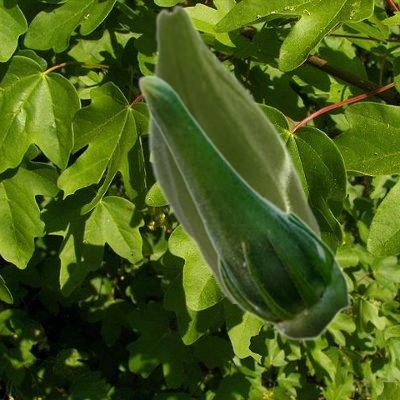okra: (137, 74, 350, 340), (147, 4, 319, 302)
